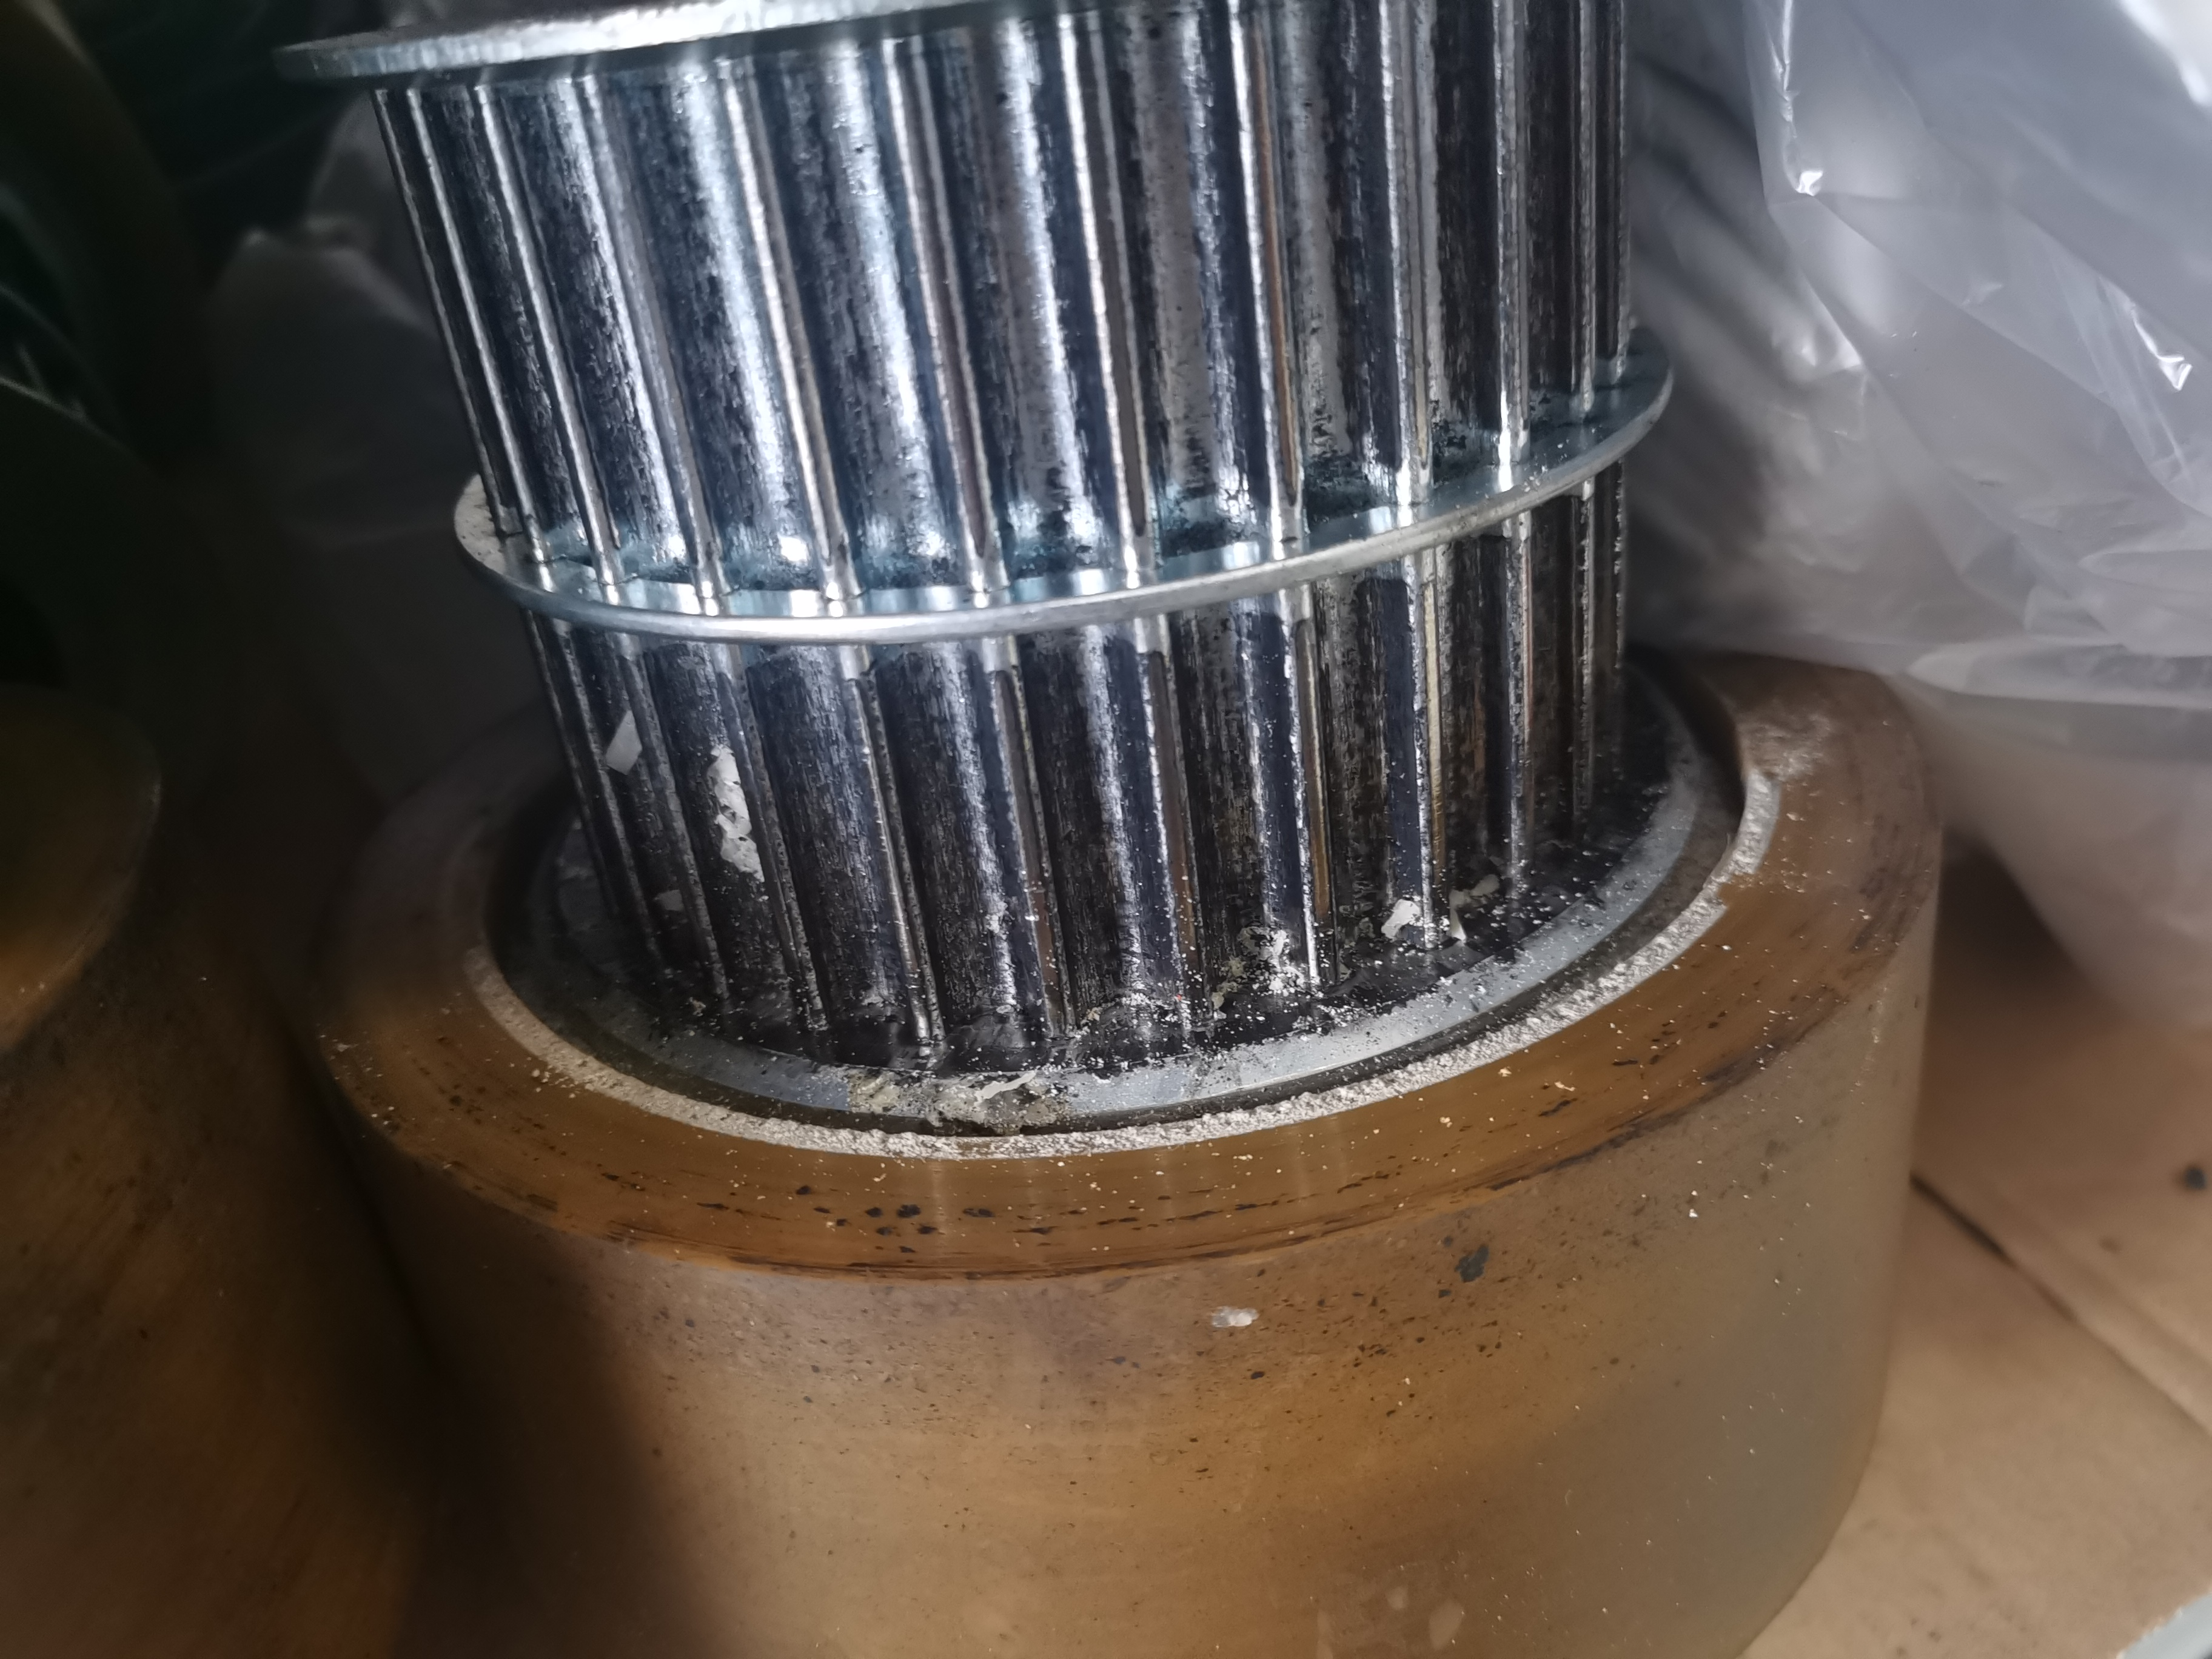bad_wheel: (758, 1033, 1271, 1194), (1407, 1006, 1585, 1098)
